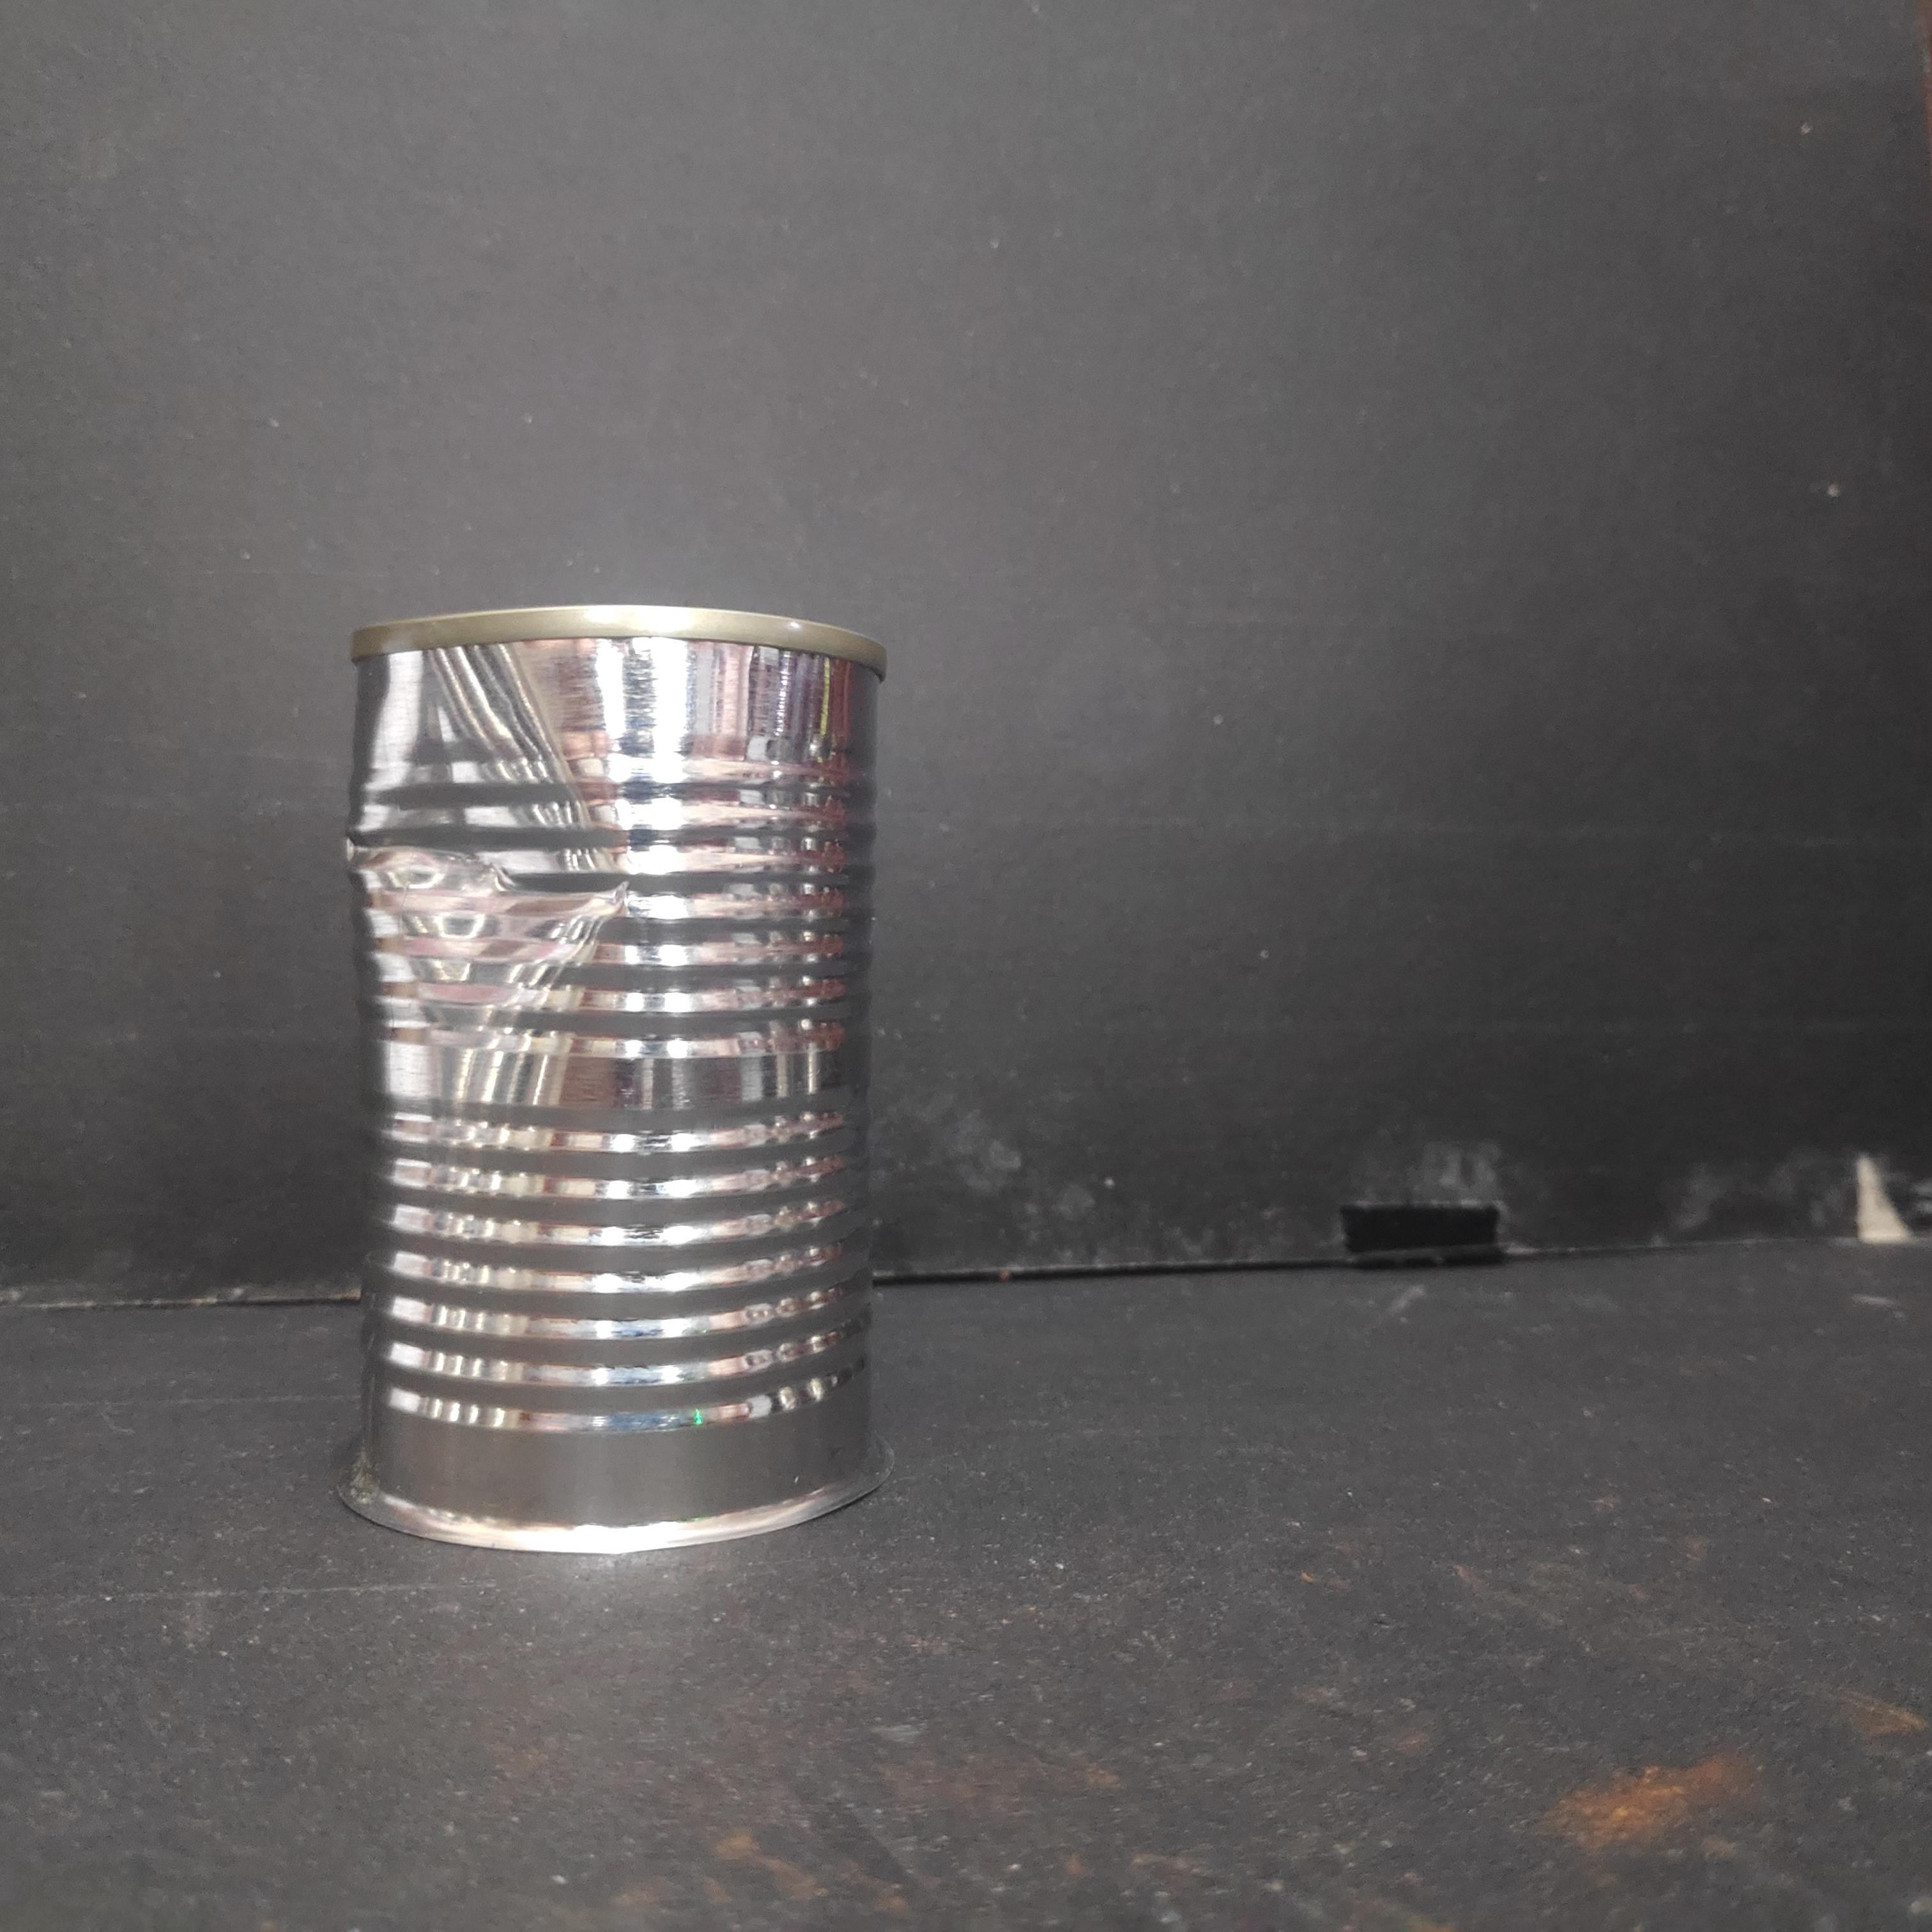Minor Defect: (333, 602, 899, 1562)
